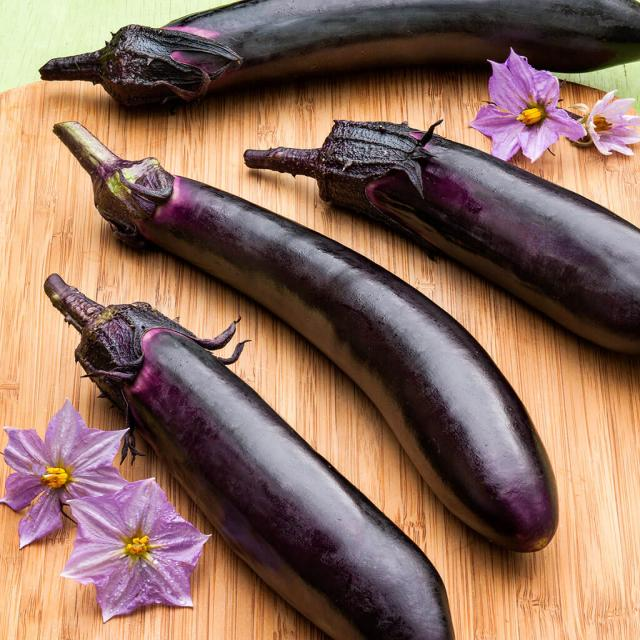eggplant: (202, 444, 452, 640), (97, 0, 640, 90), (402, 327, 568, 556), (91, 152, 316, 316), (466, 172, 640, 356), (86, 303, 268, 477)
